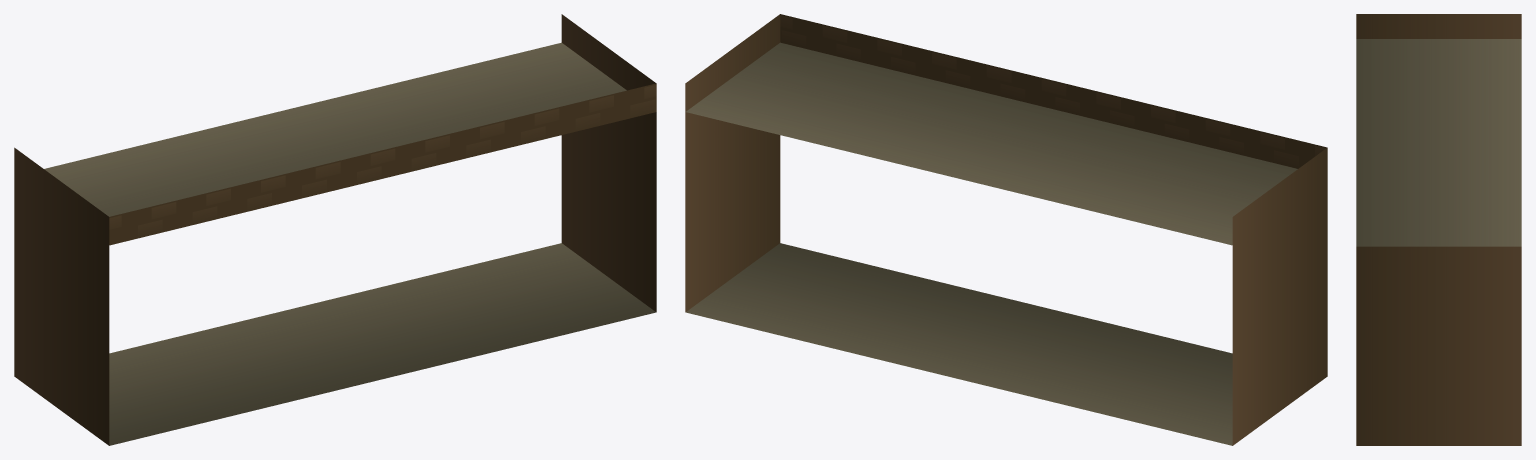
Rendered from SM_GunRoom1.fbx.
3 renders of one model, left to right at view 1: azimuth 30°, elevation 25°; view 2: azimuth 150°, elevation 25°; view 3: azimuth 270°, elevation 25°, orthographic. The views are drawn at different scales.
Visible parts, largest first — view 1: SM_GunRoom1; view 2: SM_GunRoom1; view 3: SM_GunRoom1.
Part boxes in pixels (bbox=[...]): SM_GunRoom1: bbox=[14, 14, 656, 445]; SM_GunRoom1: bbox=[685, 14, 1327, 445]; SM_GunRoom1: bbox=[1356, 14, 1521, 445].
Bounding box in the file's own units: 2000 × 600 × 800.
